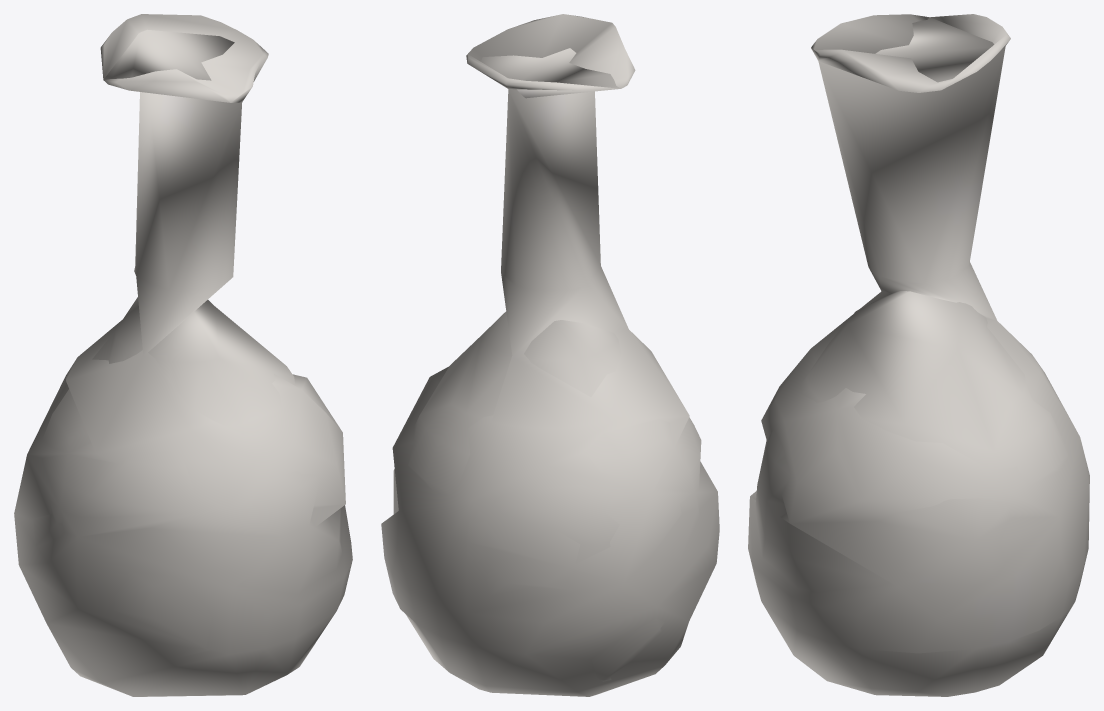
The model's file is vase.glb.
The picture shows the model from 3 angles, left to right: view 1: azimuth 30°, elevation 25°; view 2: azimuth 150°, elevation 25°; view 3: azimuth 270°, elevation 25°; orthographic projection.
Visible parts, largest first — view 1: ceramic_vase_01; view 2: ceramic_vase_01; view 3: ceramic_vase_01.
Boxes of the visible parts, x1=… form: ceramic_vase_01: x1=14, y1=14, x2=352, y2=696; ceramic_vase_01: x1=381, y1=14, x2=719, y2=696; ceramic_vase_01: x1=748, y1=14, x2=1089, y2=696.
Size of the model in its own units: 0.2022 by 0.3998 by 0.2007.
1 material, 1 textured.
